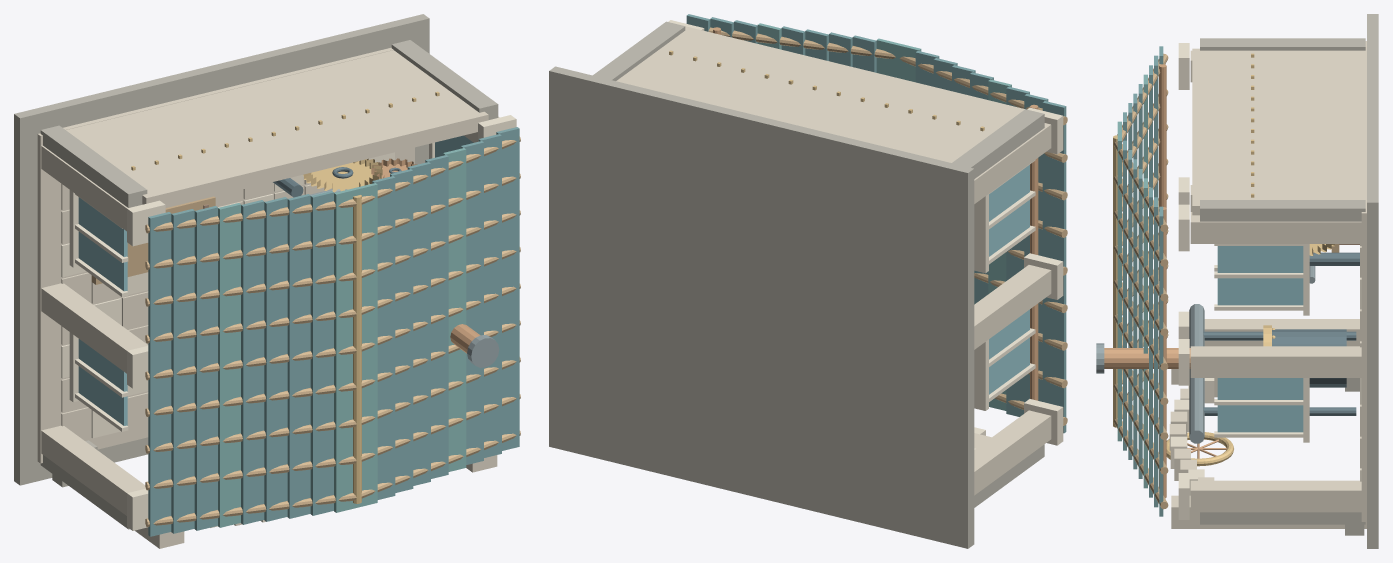
The model's file is founders_workshop_creator.glb.
The picture shows the model from 3 angles, left to right: view 1: azimuth 30°, elevation 25°; view 2: azimuth 150°, elevation 25°; view 3: azimuth 270°, elevation 25°; orthographic projection. The views are drawn at different scales.
Visible parts, largest first — view 1: RearMasonry_0117, RaisedStonePlinth_0000, PolishedCourtyard_0001, StandingSeamRoof_0177, StandingSeamRoof_0176, StandingSeamRoof_0175, StandingSeamRoof_0173, StandingSeamRoof_0172, StandingSeamRoof_0170, StandingSeamRoof_0171, StandingSeamRoof_0174, StandingSeamRoof_0169 (+47 smaller); view 2: RaisedStonePlinth_0000, RearMasonry_0117, StandingSeamRoof_0177, LimestoneButtress_0103, LimestoneButtress_0105, CornerFascia_0113, BlueGlazedWindow_0118, BlueGlazedWindow_0123, LimestoneButtress_0101, CornerFascia_0114, EaveGutter_0197, StandingSeamRoof_0176 (+13 smaller); view 3: RearMasonry_0117, RaisedStonePlinth_0000, LimestoneButtress_0111, LimestoneButtress_0109, BlueGlazedWindow_0128, BlueGlazedWindow_0133, LimestoneButtress_0107, CornerFascia_0114, PolishedCourtyard_0001, LimestoneButtress_0105, CornerFascia_0113, CornerFascia_0116 (+44 smaller).
Boxes of the visible parts, x1,y1,x2,y2 form: RearMasonry_0117: [66, 50, 488, 207]; RaisedStonePlinth_0000: [14, 14, 429, 485]; PolishedCourtyard_0001: [37, 47, 414, 463]; StandingSeamRoof_0177: [148, 212, 171, 536]; StandingSeamRoof_0176: [171, 209, 194, 533]; StandingSeamRoof_0175: [194, 206, 217, 530]; StandingSeamRoof_0173: [241, 200, 264, 524]; StandingSeamRoof_0172: [264, 197, 287, 521]; StandingSeamRoof_0170: [310, 191, 333, 515]; StandingSeamRoof_0171: [287, 194, 310, 518]; StandingSeamRoof_0174: [218, 203, 241, 527]; StandingSeamRoof_0169: [334, 188, 357, 512]; RaisedStonePlinth_0000: [549, 66, 974, 548]; RearMasonry_0117: [616, 26, 1024, 162]; StandingSeamRoof_0177: [1042, 101, 1066, 433]; LimestoneButtress_0103: [974, 265, 1051, 349]; LimestoneButtress_0105: [974, 410, 1051, 495]; CornerFascia_0113: [952, 109, 1044, 178]; BlueGlazedWindow_0118: [989, 165, 1029, 256]; BlueGlazedWindow_0123: [989, 309, 1029, 394]; LimestoneButtress_0101: [974, 123, 1051, 203]; CornerFascia_0114: [593, 21, 685, 80]; EaveGutter_0197: [1030, 104, 1038, 400]; StandingSeamRoof_0176: [1024, 94, 1048, 402]; RearMasonry_0117: [1192, 48, 1361, 215]; RaisedStonePlinth_0000: [1367, 14, 1378, 548]; LimestoneButtress_0111: [1190, 480, 1361, 512]; LimestoneButtress_0109: [1190, 346, 1361, 377]; BlueGlazedWindow_0128: [1217, 246, 1303, 305]; BlueGlazedWindow_0133: [1217, 378, 1303, 432]; LimestoneButtress_0107: [1190, 212, 1361, 243]; CornerFascia_0114: [1200, 200, 1365, 221]; PolishedCourtyard_0001: [1361, 41, 1366, 521]; LimestoneButtress_0105: [1204, 319, 1359, 346]; CornerFascia_0113: [1200, 38, 1365, 50]; CornerFascia_0116: [1200, 512, 1365, 524].
Bounding box in the file's own units: 14 × 12.03 × 8.85.
